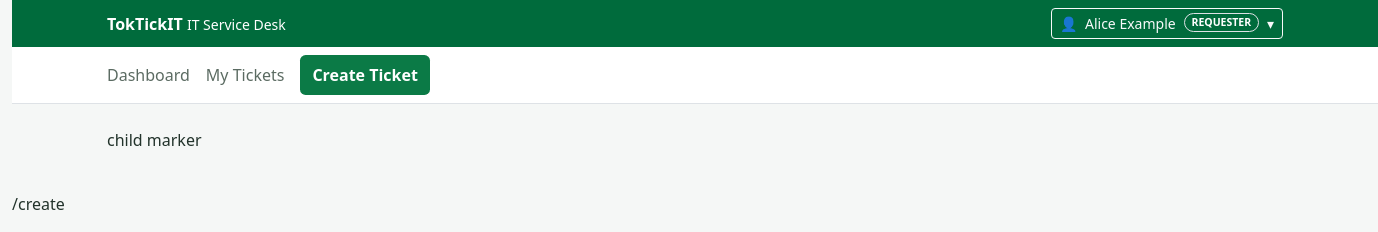
Test: logout failure keeps auth state (Issue #45) › AppShell: failing logout keeps menu/user visible, shows failure, stays on page
This screenshot has width=1378, height=232.
Click the button with aria-label "user menu".
click(1167, 24)  # box [1051,8,1283,39]
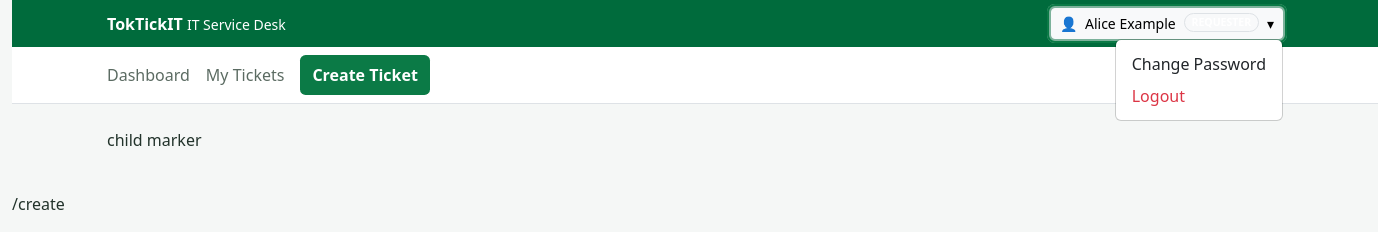
Click the menu item "Logout".
click(1199, 96)  # box [1116,80,1282,112]
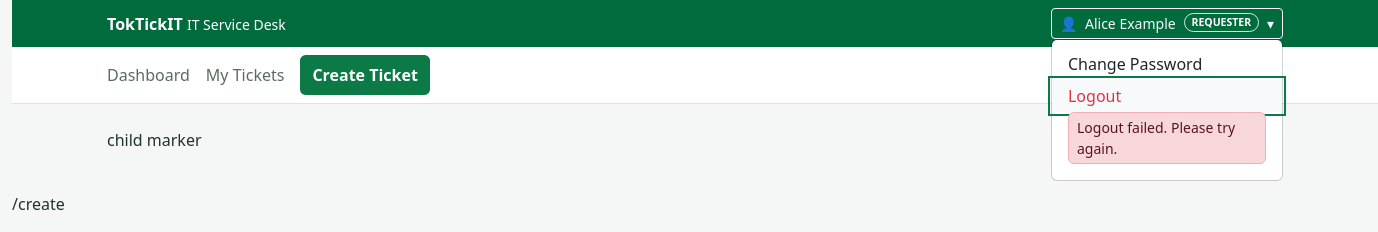
Expected: the text "Alice Example" is shown, [1085,13,1176,34]
Expected: the message shows "Logout failed", [1077,118,1235,158]
